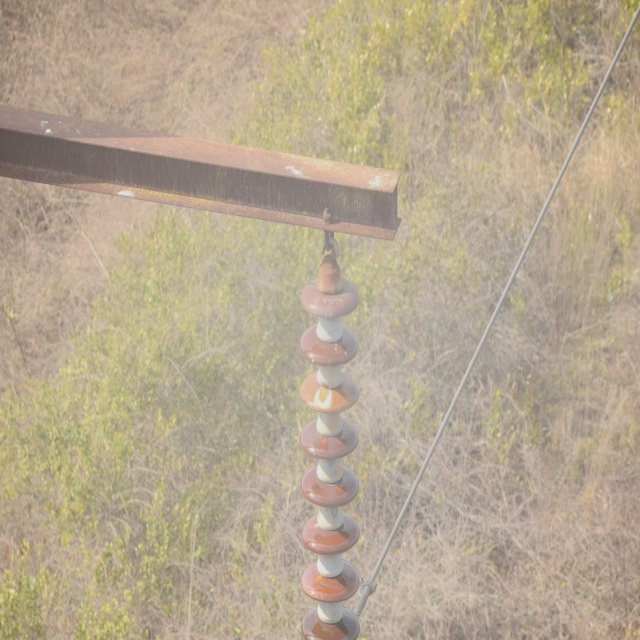insulator: (299, 278, 362, 640)
